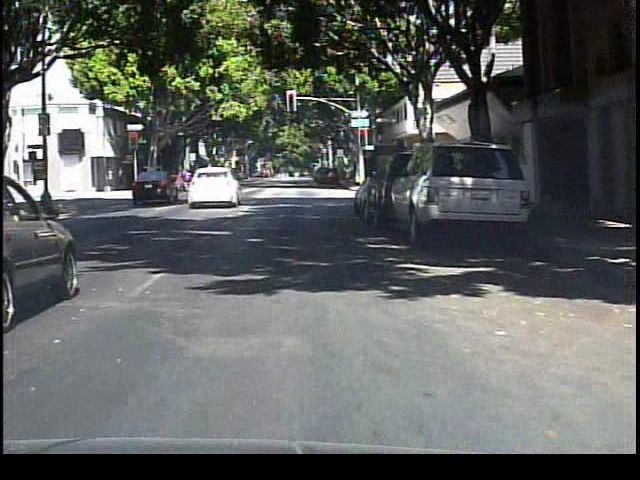person: (174, 163, 200, 201)
